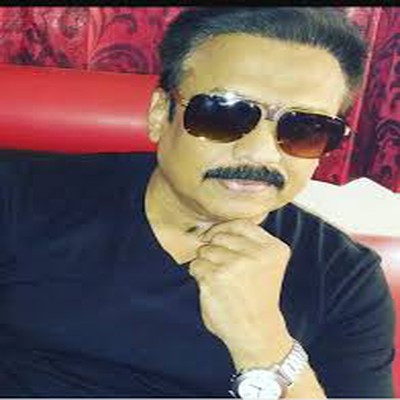eywear: (177, 57, 351, 174)
